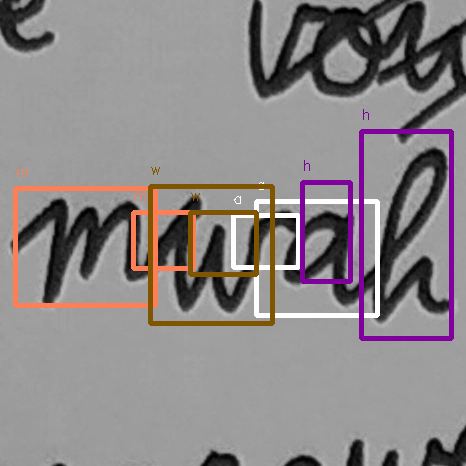a: (276, 205, 357, 311)
h: (361, 142, 462, 331)
m: (5, 191, 151, 313)
w: (159, 189, 271, 319)
